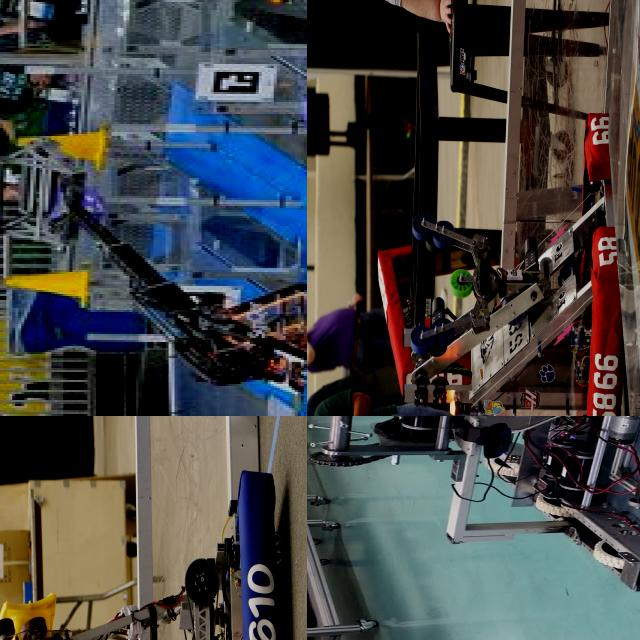FRC-Robots: (363, 126, 631, 416), (307, 416, 640, 602), (25, 215, 307, 416), (0, 468, 288, 640)
